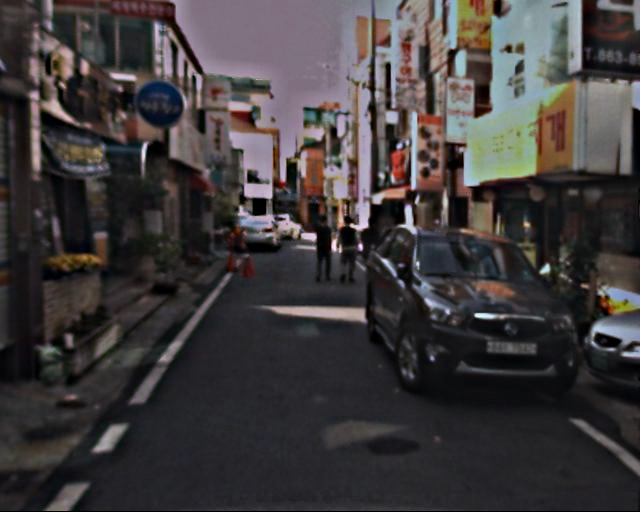person: (332, 212, 362, 284), (355, 216, 384, 287), (308, 214, 337, 284)
